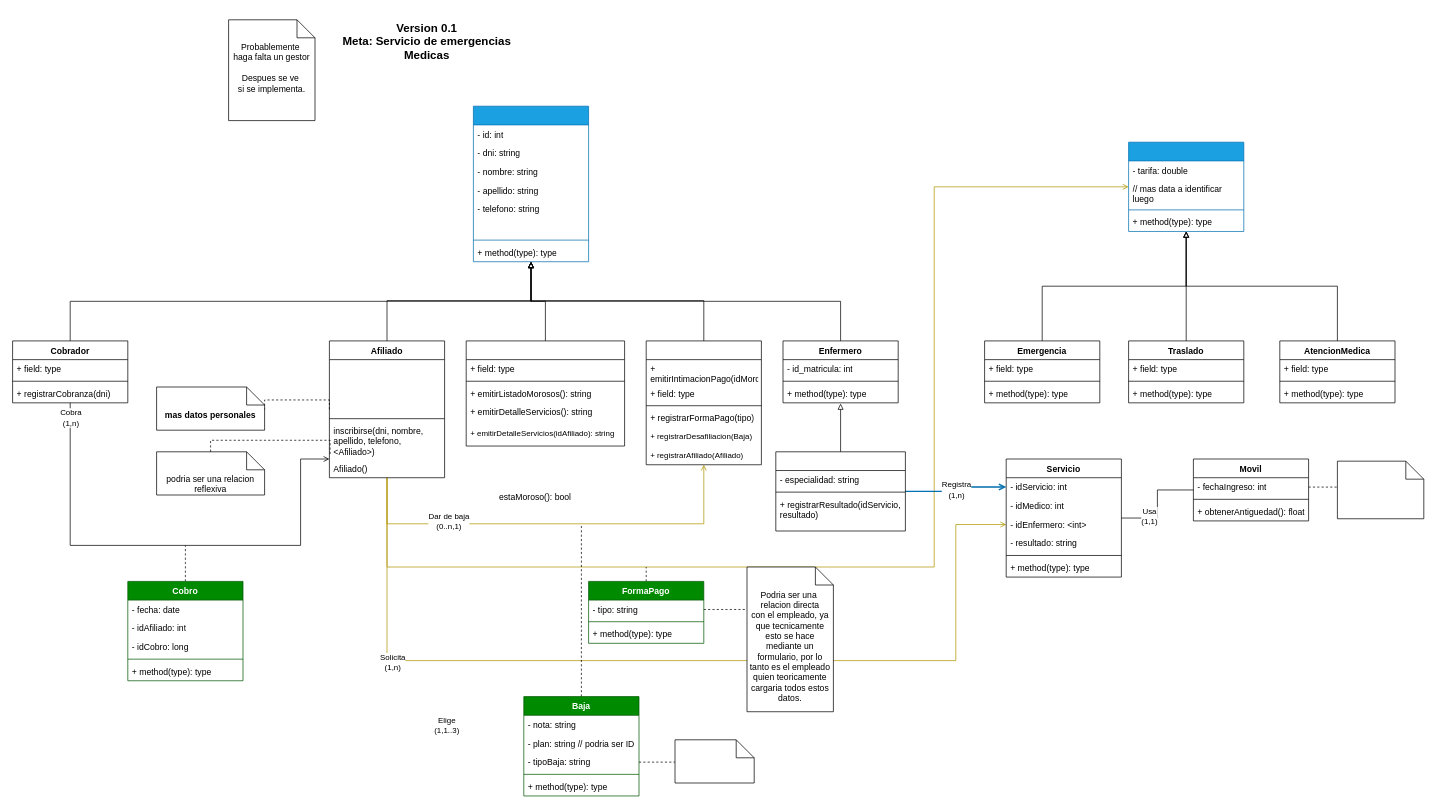
The diagram is 1436 pixels wide and 810 high, and some of its shapes have lost their labels. The shapes that lost their labels are listed below. From the top down, each one's box as (x1, y1, x2, y2) in pixels, then its label:
(473, 105, 589, 262): Usuarios
(1128, 141, 1244, 231): Plan
(465, 340, 625, 446): Gerente
(645, 340, 761, 465): Empleado
(775, 451, 905, 531): Medico
(1337, 460, 1424, 519): fecha en la cual se compro el movil
(674, 739, 754, 783): total, parcial
